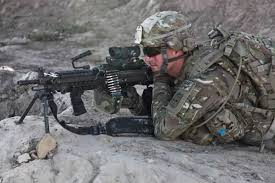gun: (15, 44, 151, 132)
